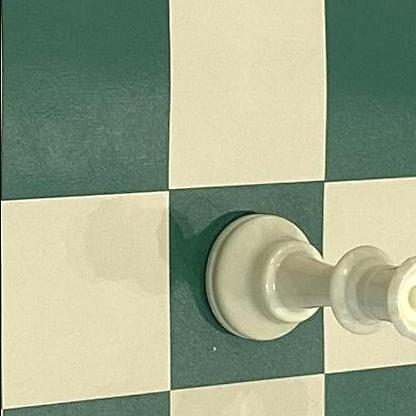white-queen: (198, 211, 416, 346)
